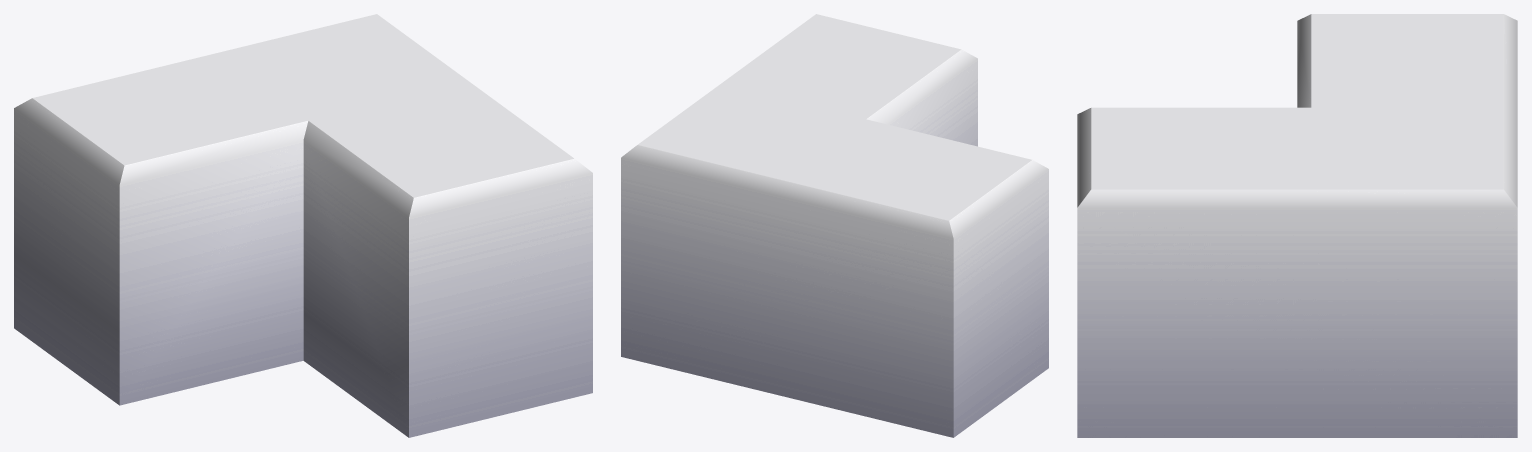
Rendered from brick-kit--none-hq-brick-corner.glb.
The picture shows the model from 3 angles, left to right: view 1: azimuth 30°, elevation 25°; view 2: azimuth 150°, elevation 25°; view 3: azimuth 270°, elevation 25°; orthographic projection. The views are drawn at different scales.
Visible parts, largest first — view 1: none-hq-brick-corner; view 2: none-hq-brick-corner; view 3: none-hq-brick-corner.
Boxes of the visible parts, x1,y1,x2,y2 form: none-hq-brick-corner: (14, 14, 592, 437); none-hq-brick-corner: (621, 14, 1048, 437); none-hq-brick-corner: (1077, 14, 1517, 437).
Bounding box in the file's own units: 0.159 × 0.096 × 0.158.
1 material, 1 textured.
